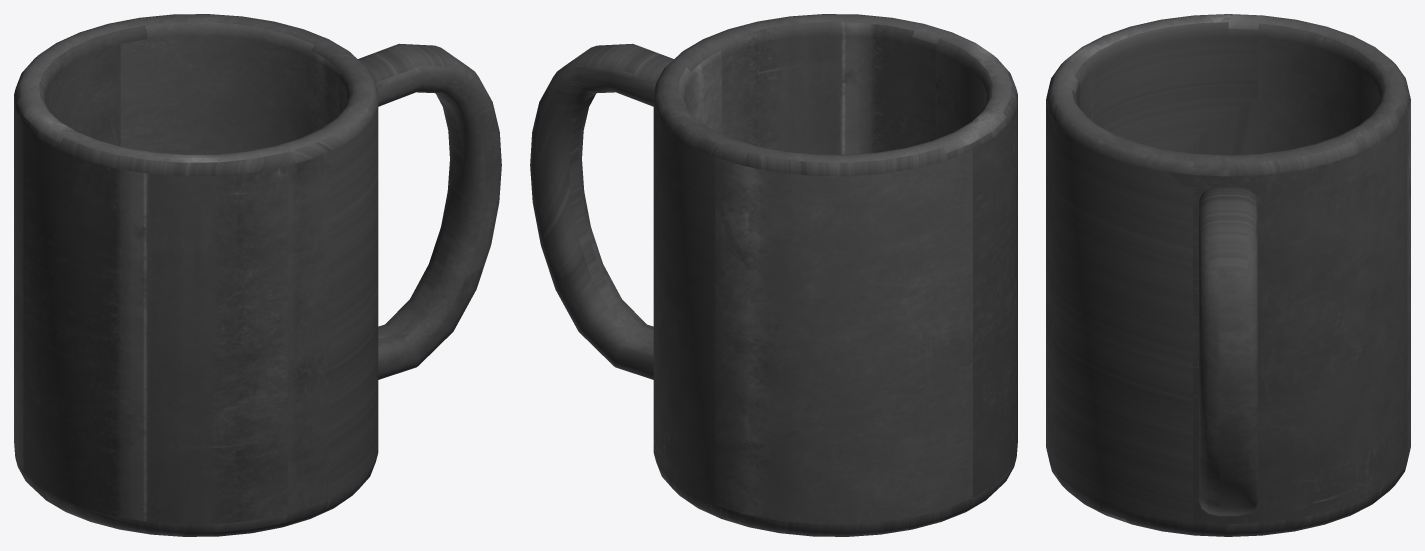
File: Mug.obj
3 renders of one model, left to right at view 1: azimuth 30°, elevation 25°; view 2: azimuth 150°, elevation 25°; view 3: azimuth 270°, elevation 25°, orthographic.
Visible parts, largest first — view 1: Mug; view 2: Mug; view 3: Mug.
Part boxes in pixels (bbox=[...]): Mug: bbox=[14, 14, 501, 536]; Mug: bbox=[530, 14, 1017, 536]; Mug: bbox=[1046, 14, 1410, 536].
Size of the model in its own units: 2.38 by 1.9 by 1.65.
